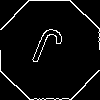J: (25, 25, 66, 78)
